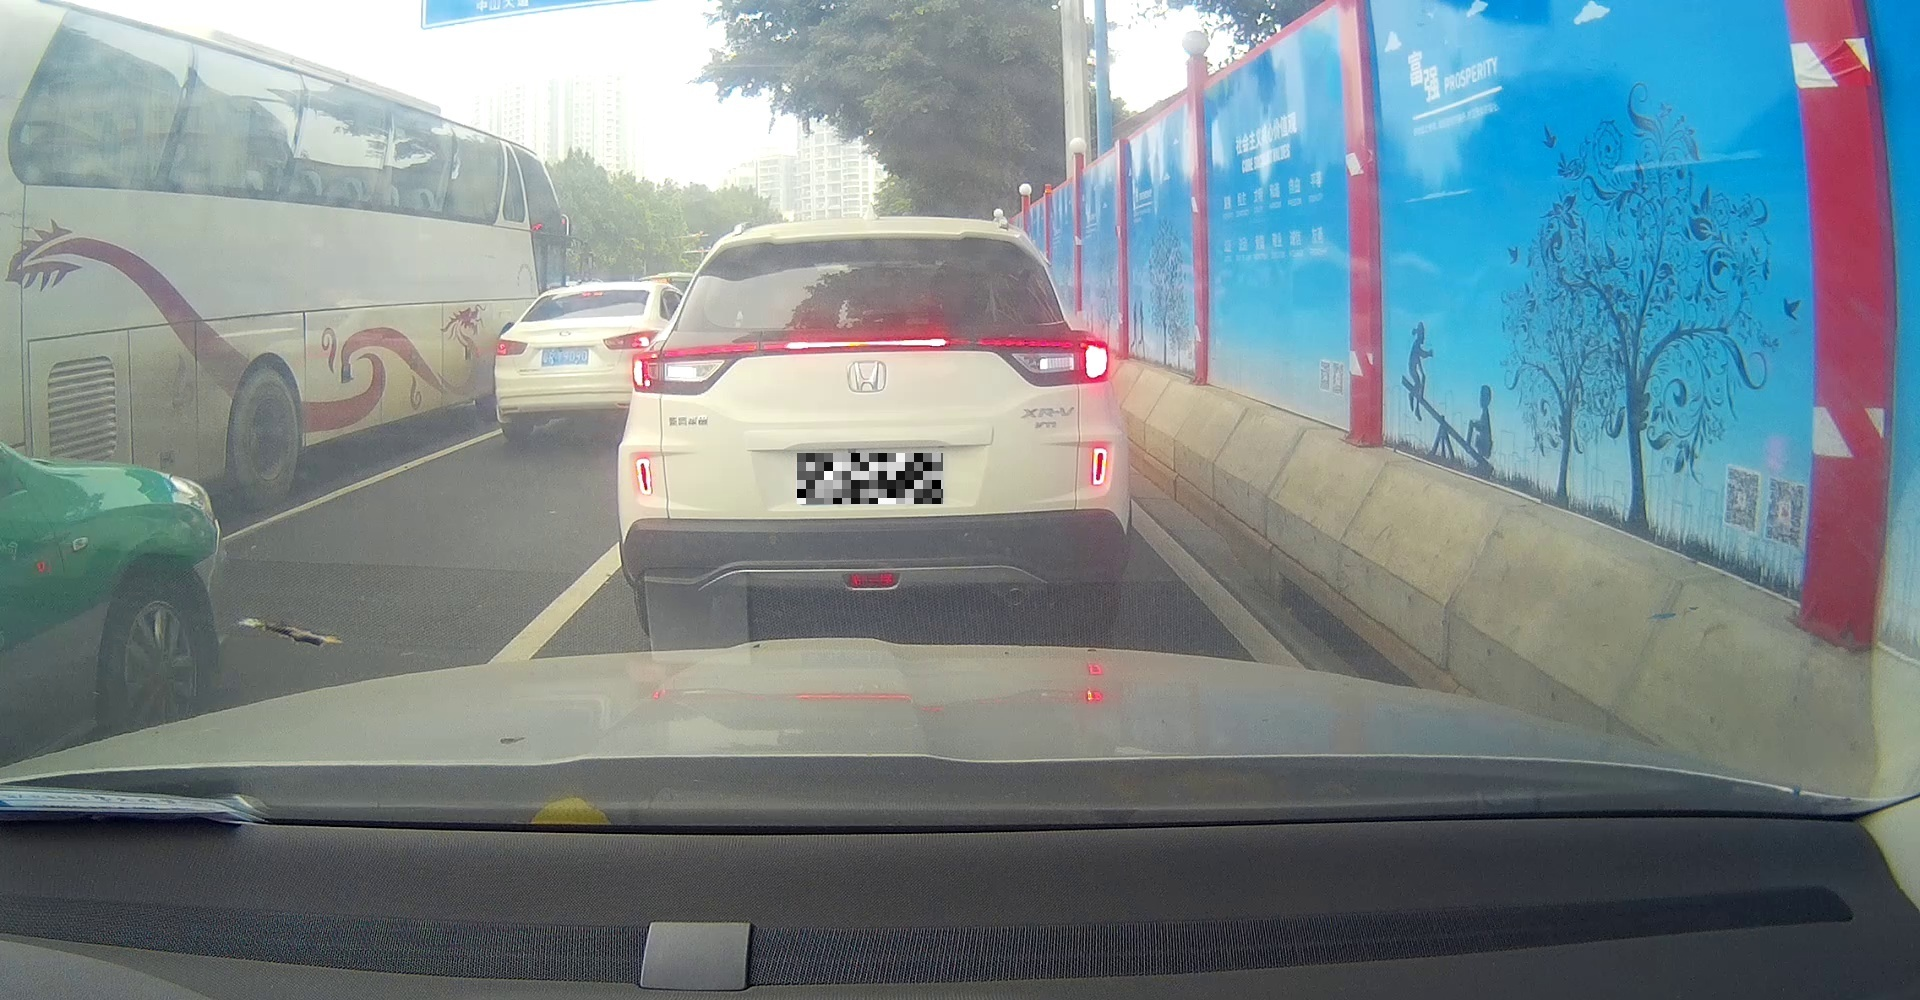L_light: (631, 343, 742, 395)
R_light: (994, 339, 1107, 387)
T_light: (786, 336, 947, 352)
day-brake: (618, 216, 1131, 641)
plate_1: (797, 453, 943, 504)
